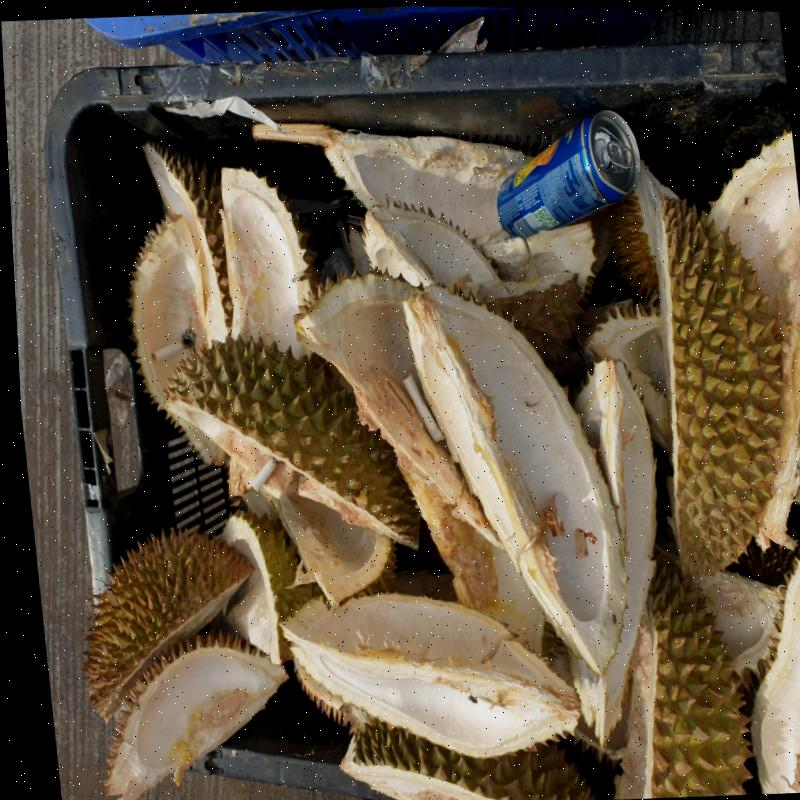aluminum: (497, 108, 642, 238)
fruit peels: (294, 270, 546, 655), (404, 283, 628, 677), (254, 122, 598, 304), (165, 336, 421, 549), (280, 592, 584, 758), (660, 194, 784, 575), (713, 130, 800, 551), (567, 357, 658, 746), (620, 546, 757, 800), (83, 526, 256, 721), (104, 627, 289, 800), (133, 214, 227, 465), (143, 141, 239, 348), (341, 724, 597, 800), (219, 164, 313, 358), (262, 484, 398, 606), (362, 196, 511, 304), (578, 297, 673, 465), (220, 509, 305, 664), (750, 550, 800, 794), (486, 275, 587, 392), (700, 568, 787, 689), (609, 193, 659, 304)
